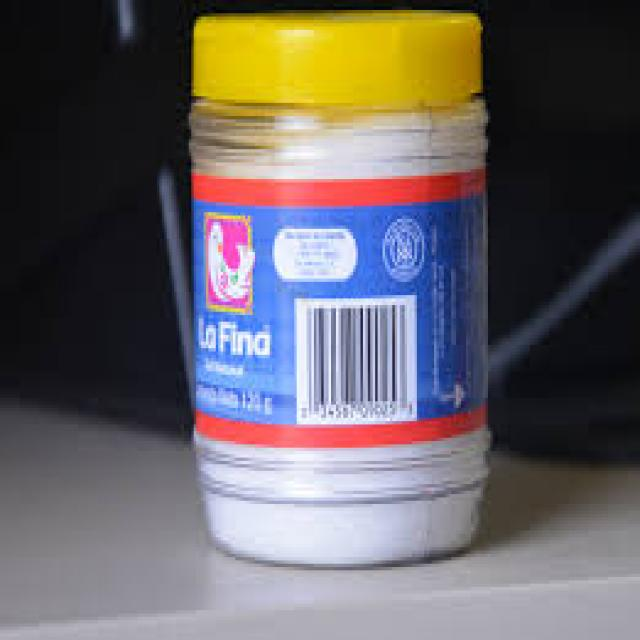Codigo_barras: (293, 298, 420, 422)
